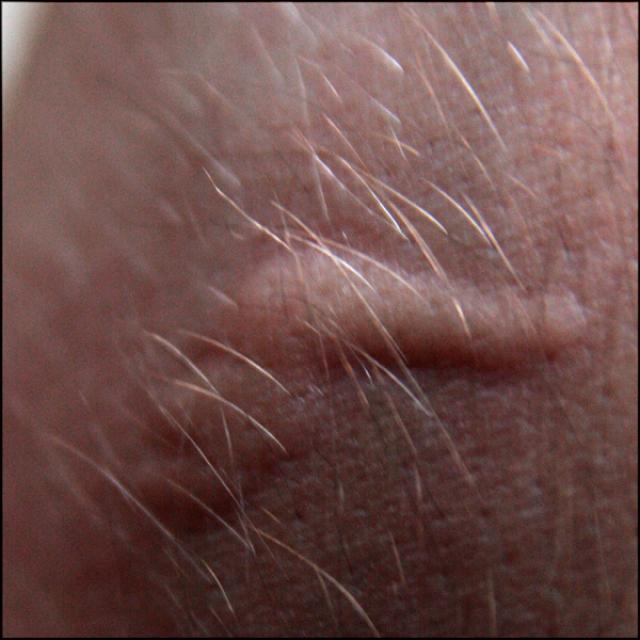sinek: (105, 378, 345, 532)
